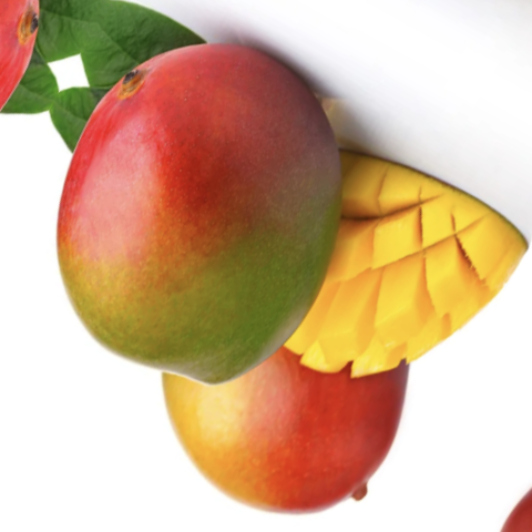mango: (0, 0, 424, 440), (86, 189, 485, 532)
